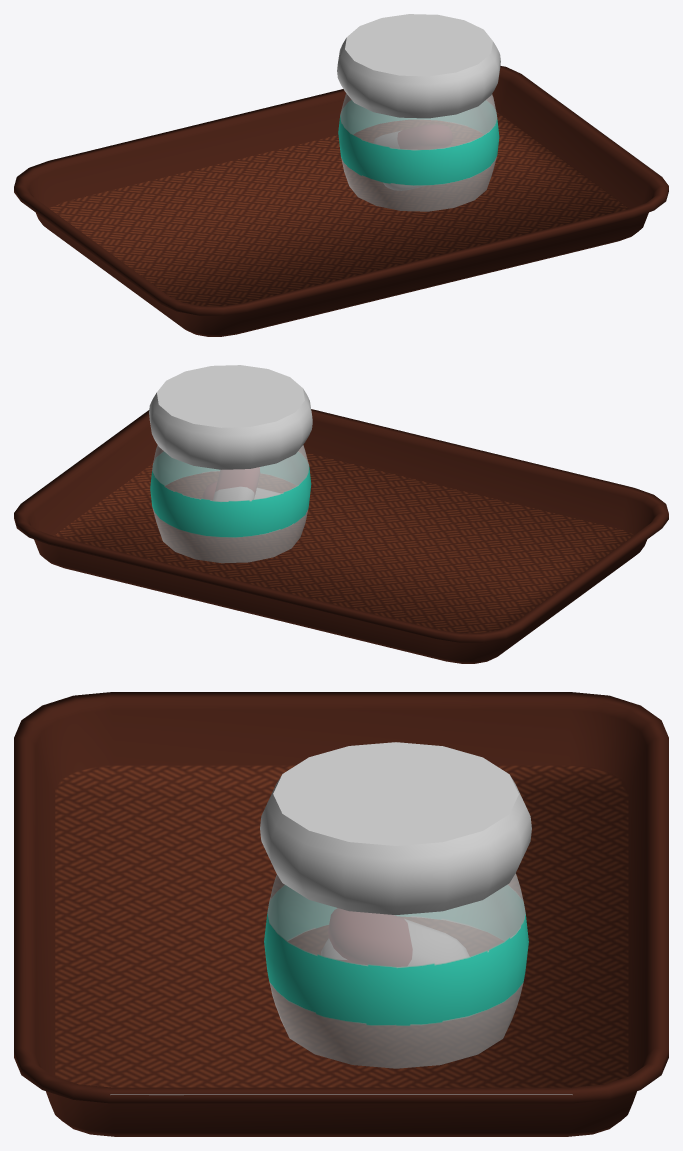
Rendered from tray_pill1.glb.
The picture shows the model from 3 angles, top to bottom: view 1: azimuth 30°, elevation 25°; view 2: azimuth 150°, elevation 25°; view 3: azimuth 270°, elevation 25°; orthographic projection. The views are drawn at different scales.
Visible parts, largest first — view 1: Cube.002, Cylinder.001, Cylinder.002, Cube.004; view 2: Cube.002, Cylinder.001, Cylinder.002, Cube.004; view 3: Cube.002, Cylinder.001, Cylinder.002, Cube.004.
Part boxes in pixels (<box>): Cube.002: <box>14,66,668,336</box>; Cylinder.001: <box>338,93,499,211</box>; Cylinder.002: <box>337,14,500,118</box>; Cube.004: <box>374,125,451,149</box>; Cube.002: <box>14,409,668,663</box>; Cylinder.001: <box>150,445,311,563</box>; Cylinder.002: <box>149,365,312,469</box>; Cube.004: <box>213,467,259,500</box>; Cube.002: <box>14,692,668,1136</box>; Cylinder.001: <box>264,873,528,1068</box>; Cylinder.002: <box>260,742,531,914</box>; Cube.004: <box>328,908,468,966</box>.
Size of the model in its own units: 0.9263 by 0.2554 by 0.6374.
Materials: 5 (5 with a texture image).
